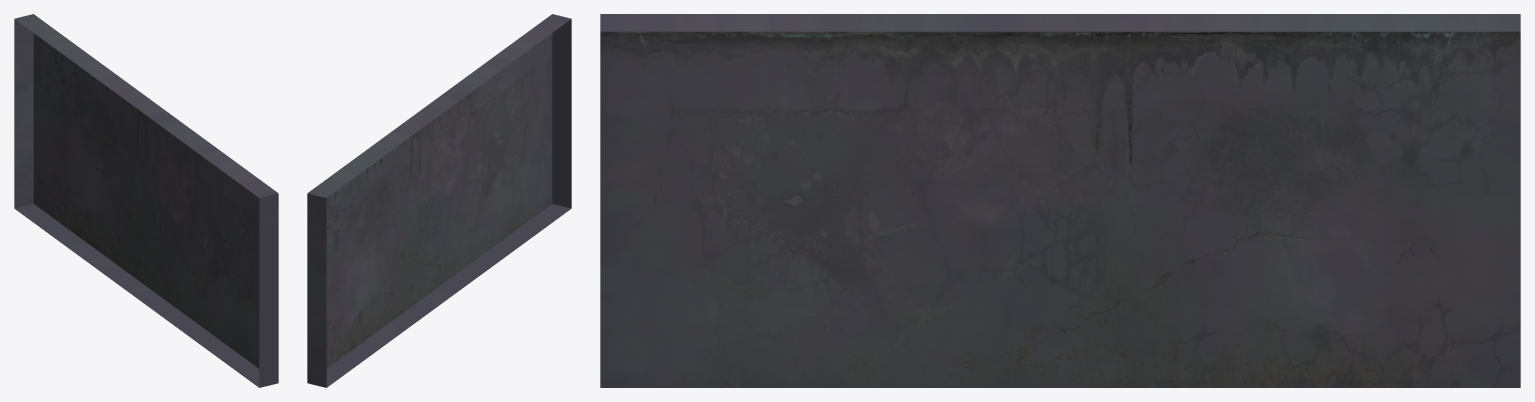
Rendered from ConcreteWall1.obj.
3 renders of one model, left to right at view 1: azimuth 30°, elevation 25°; view 2: azimuth 150°, elevation 25°; view 3: azimuth 270°, elevation 25°, orthographic. The views are drawn at different scales.
Parts seen in each view (by area): view 1: pCube2; view 2: pCube2; view 3: pCube2.
Part boxes in pixels (<box>): pCube2: <box>14,14,278,387</box>; pCube2: <box>307,14,571,387</box>; pCube2: <box>600,14,1520,387</box>.
Bounding box in the file's own units: 70.57 × 659 × 1544.
1 material, 1 textured.
